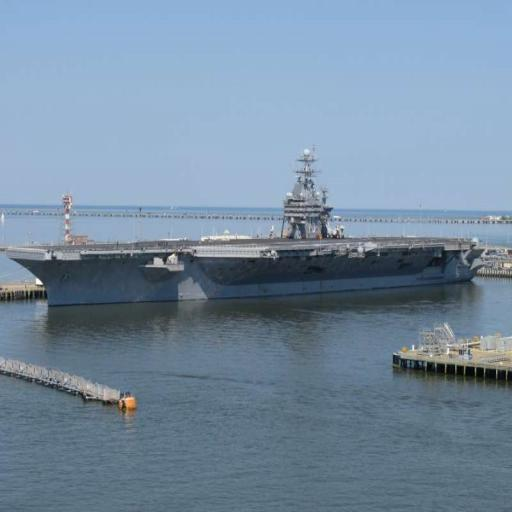Portanaves: (5, 131, 497, 309)
